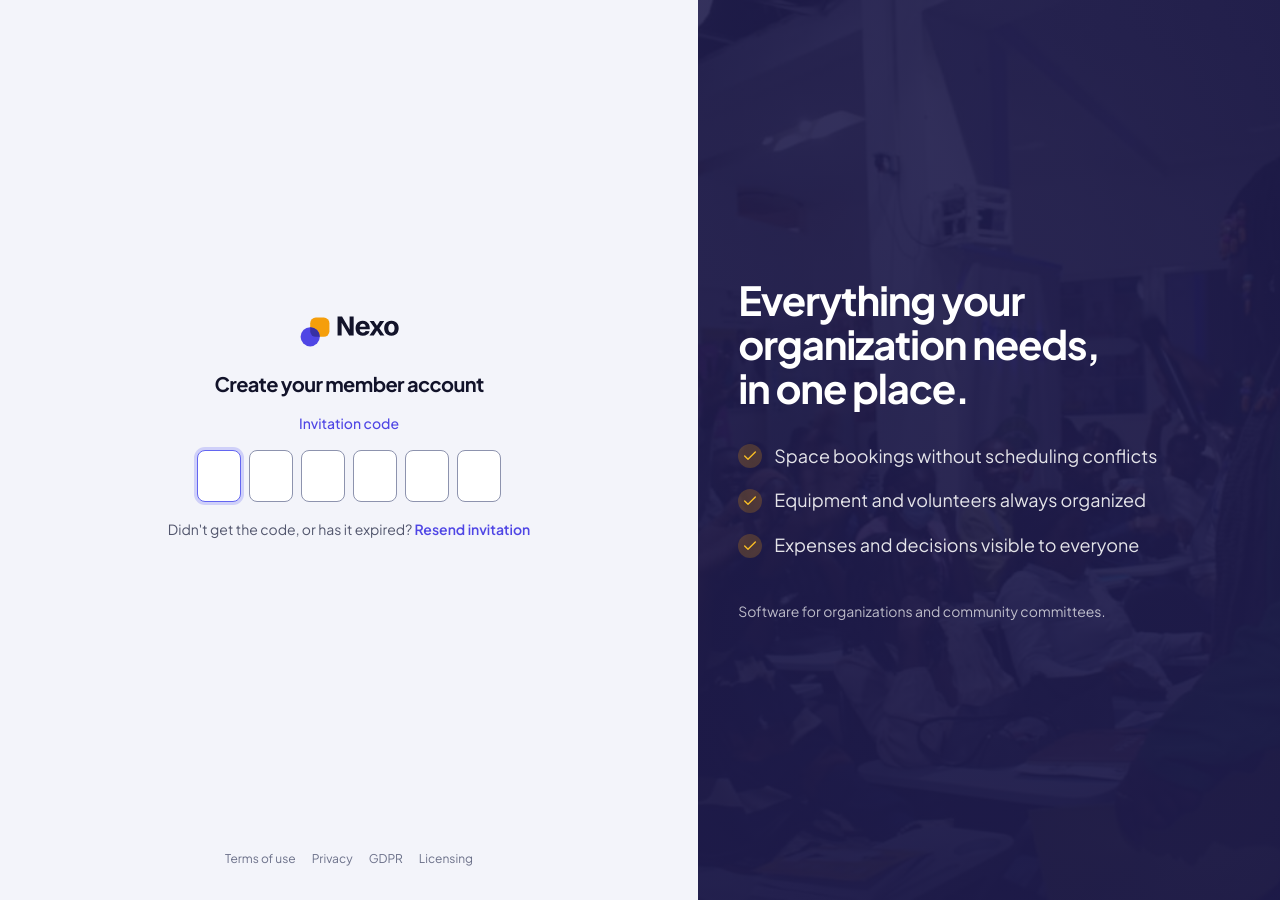
Scenario: ActivateAccountForm › given an invalid code, when fully entered, then it says the invitation is not valid and keeps the code entry
The width and height of the screenshot is (1280, 900).
In the password field named "Invitation code 1/6": [219, 476] box [197,450,241,502], type "W"
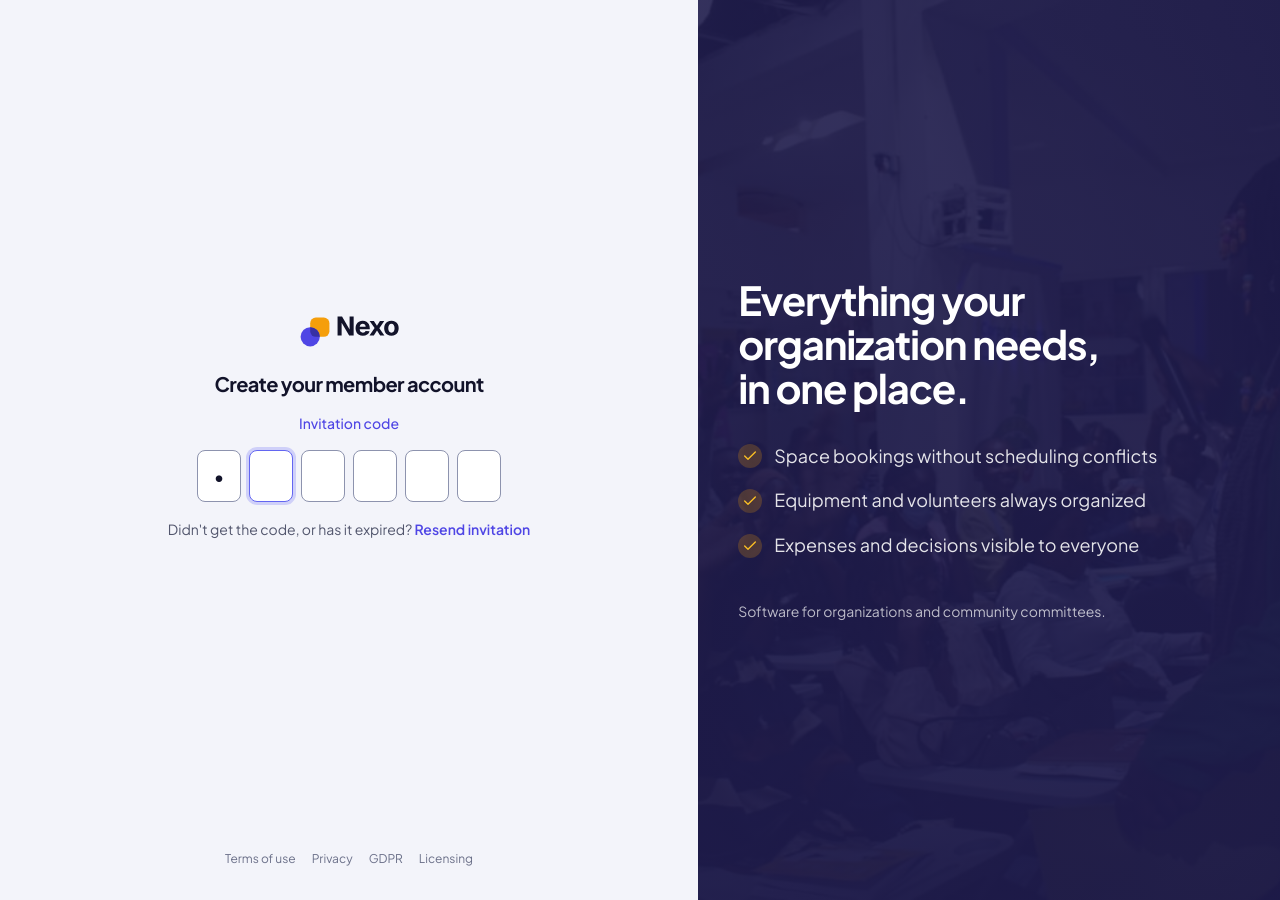
In the password field named "Invitation code 2/6": [271, 476] box [249,450,293,502], type "R"
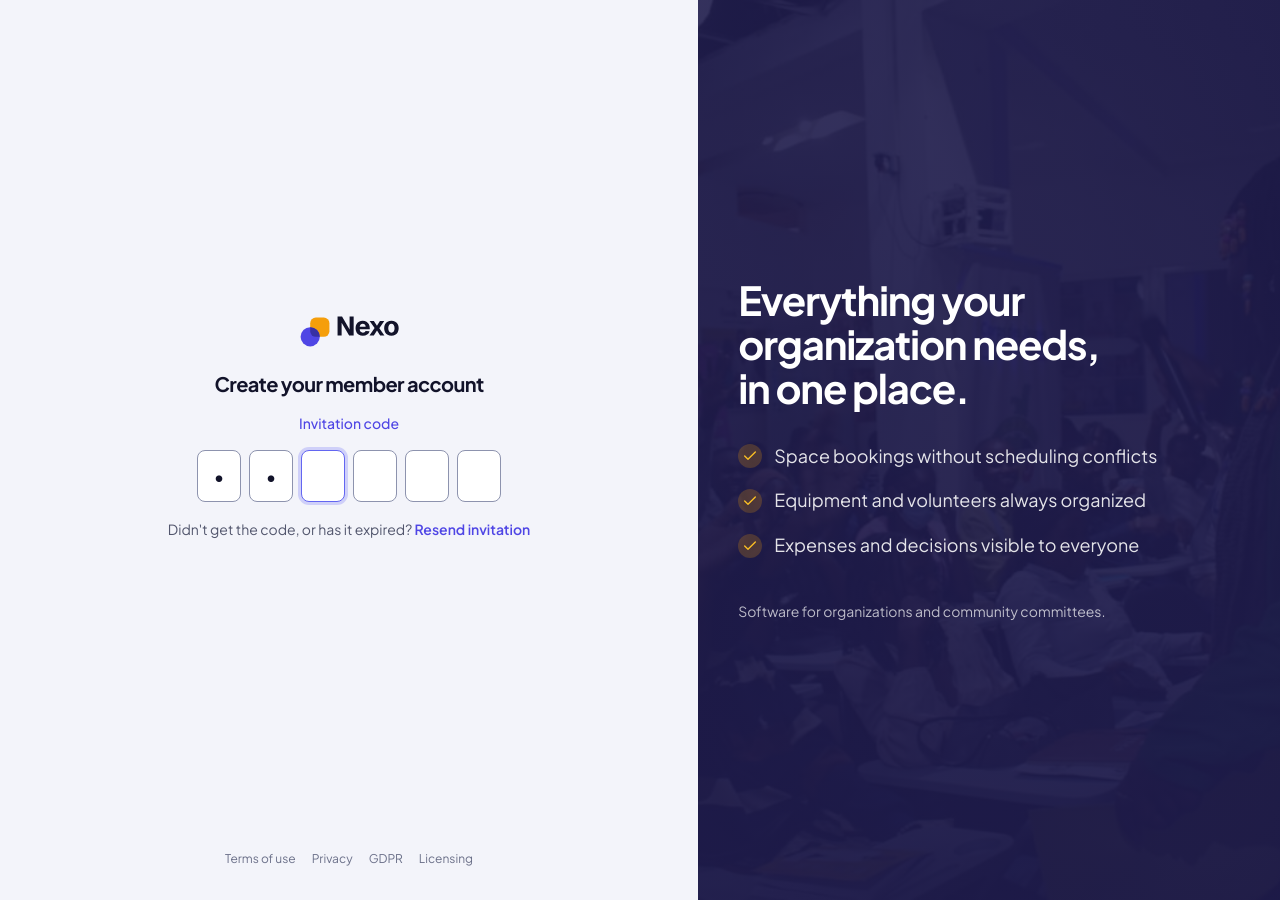
In the password field named "Invitation code 3/6": [323, 476] box [301,450,345,502], type "O"
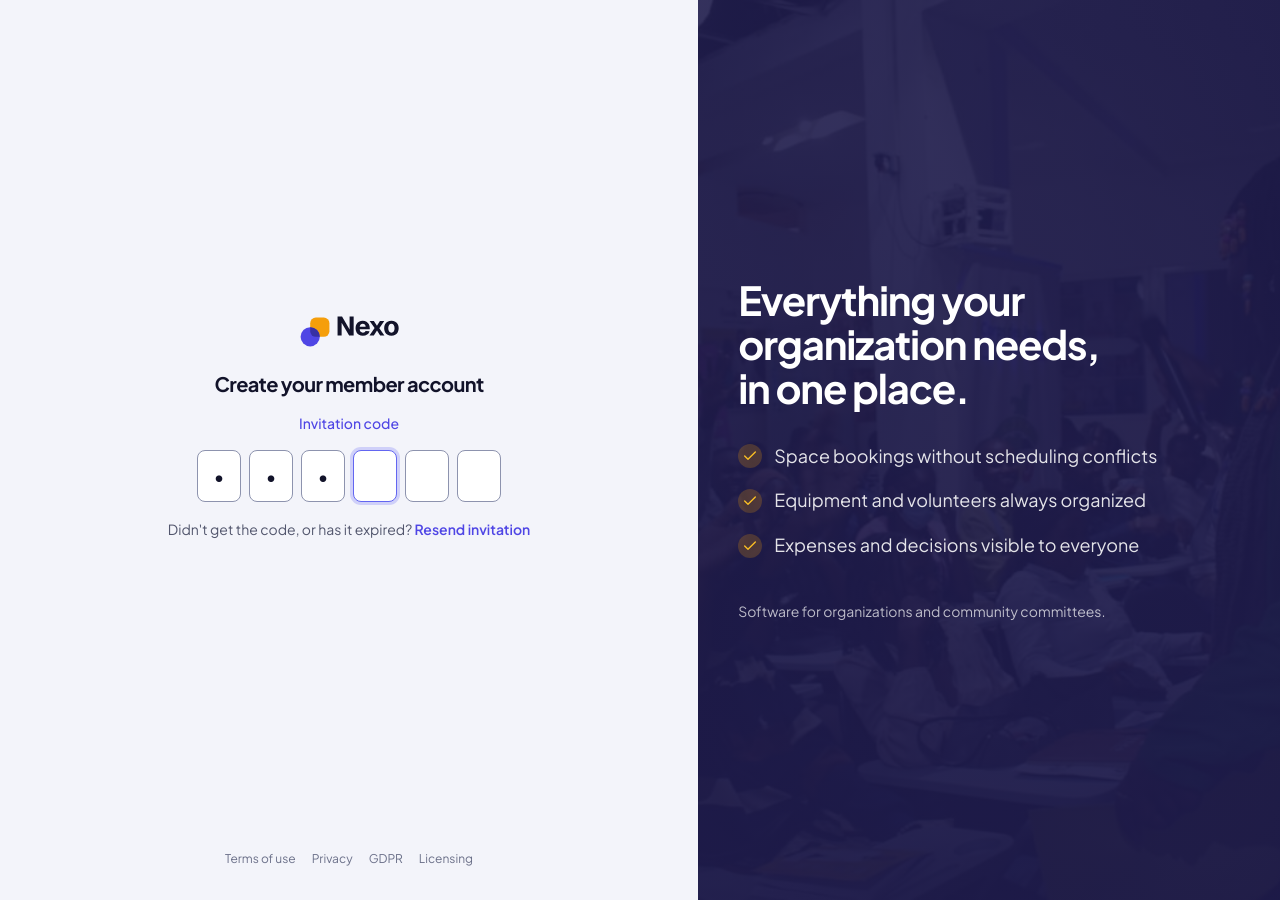
In the password field named "Invitation code 4/6": [375, 476] box [353,450,397,502], type "N"
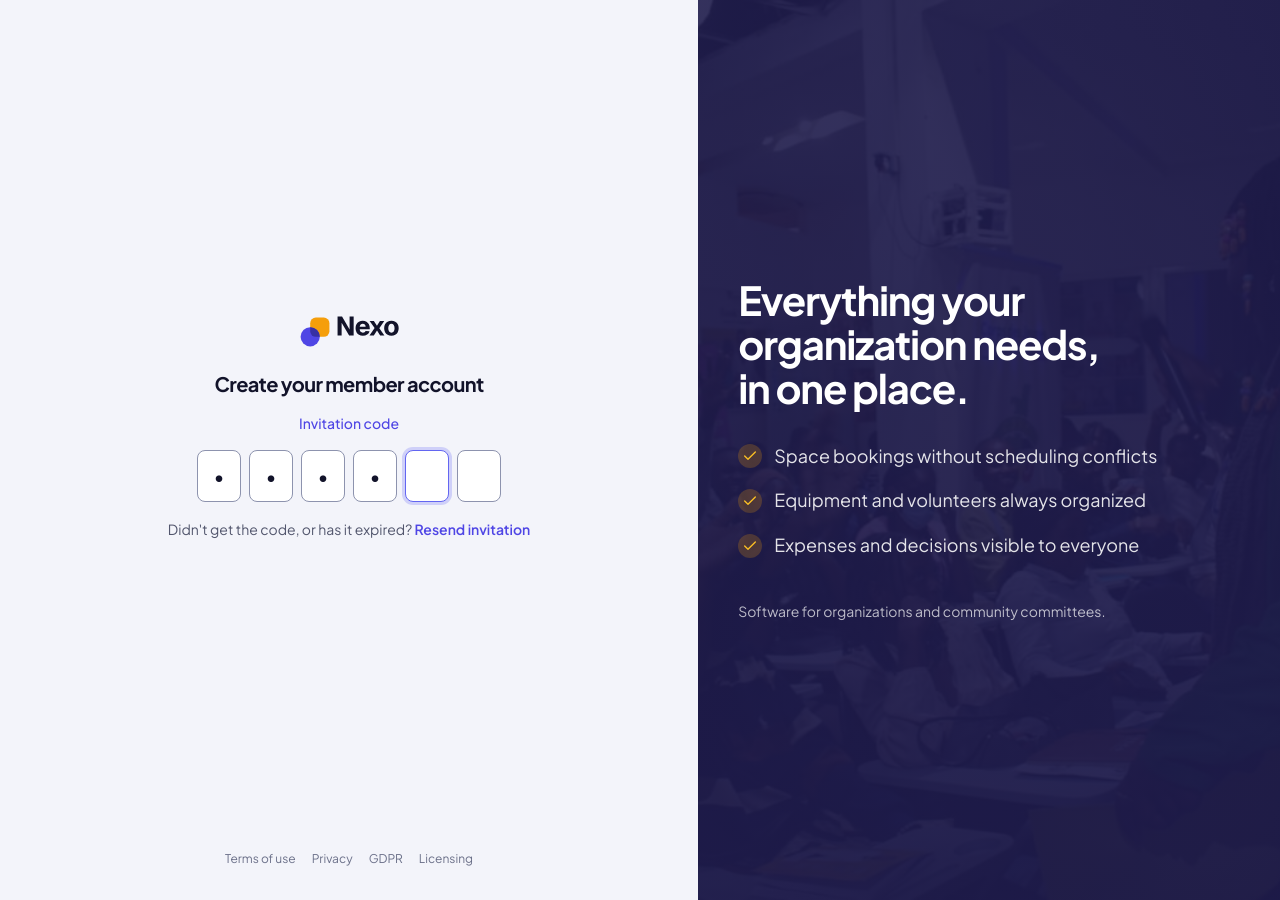
In the password field named "Invitation code 5/6": [427, 476] box [405,450,449,502], type "G"
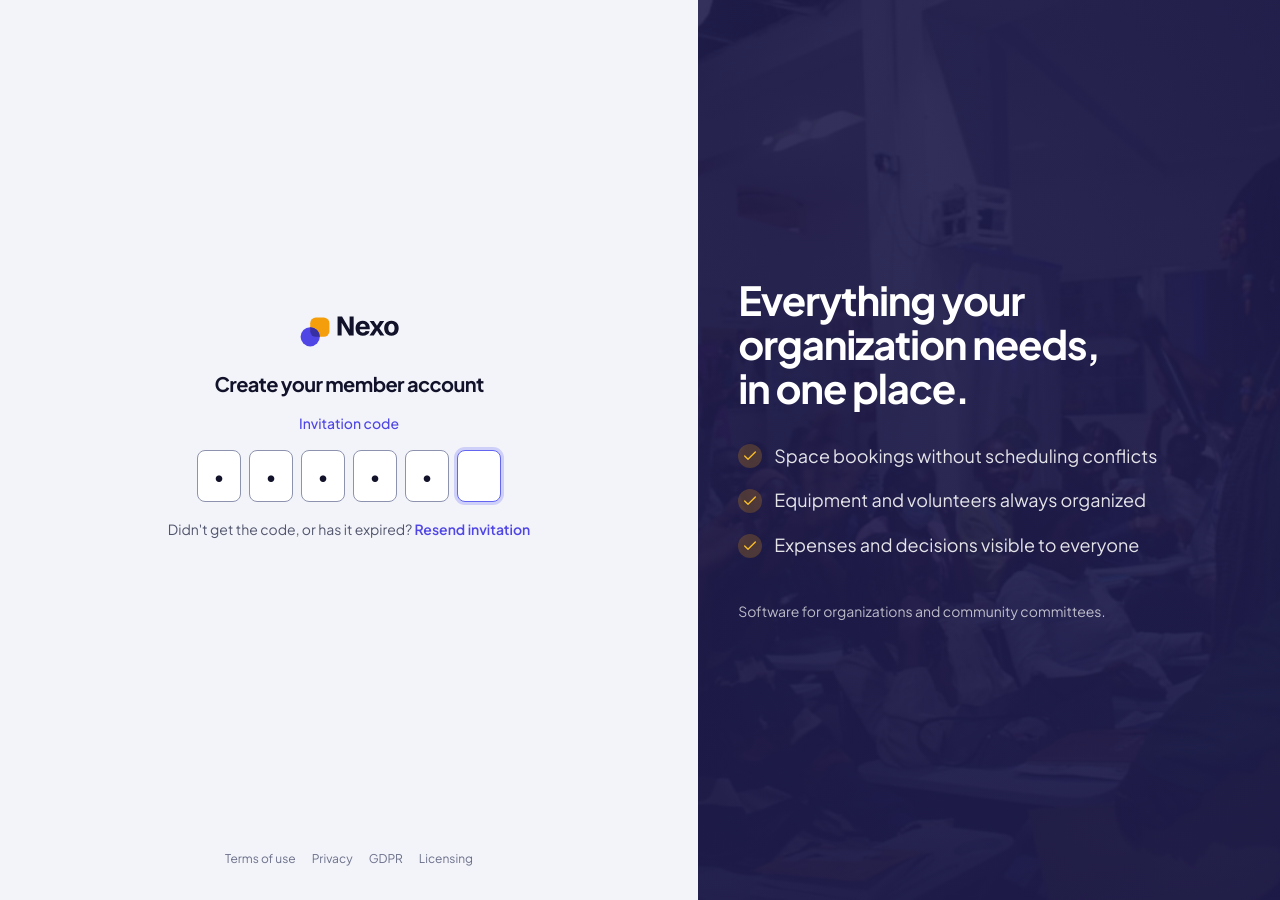
In the password field named "Invitation code 6/6": [479, 476] box [457,450,501,502], type "1"
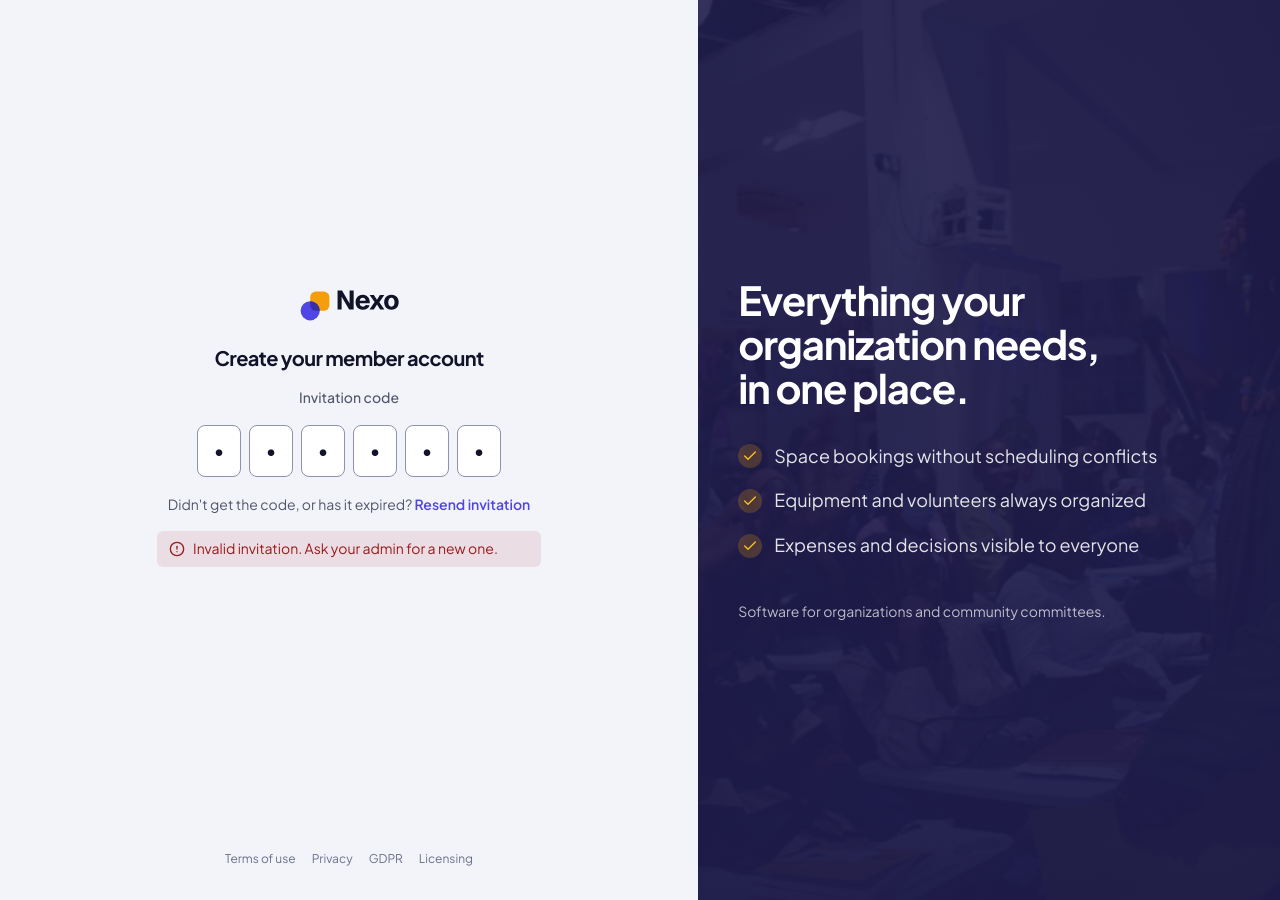
Now the message shows "Invalid invitation", box [193,539,498,557]
